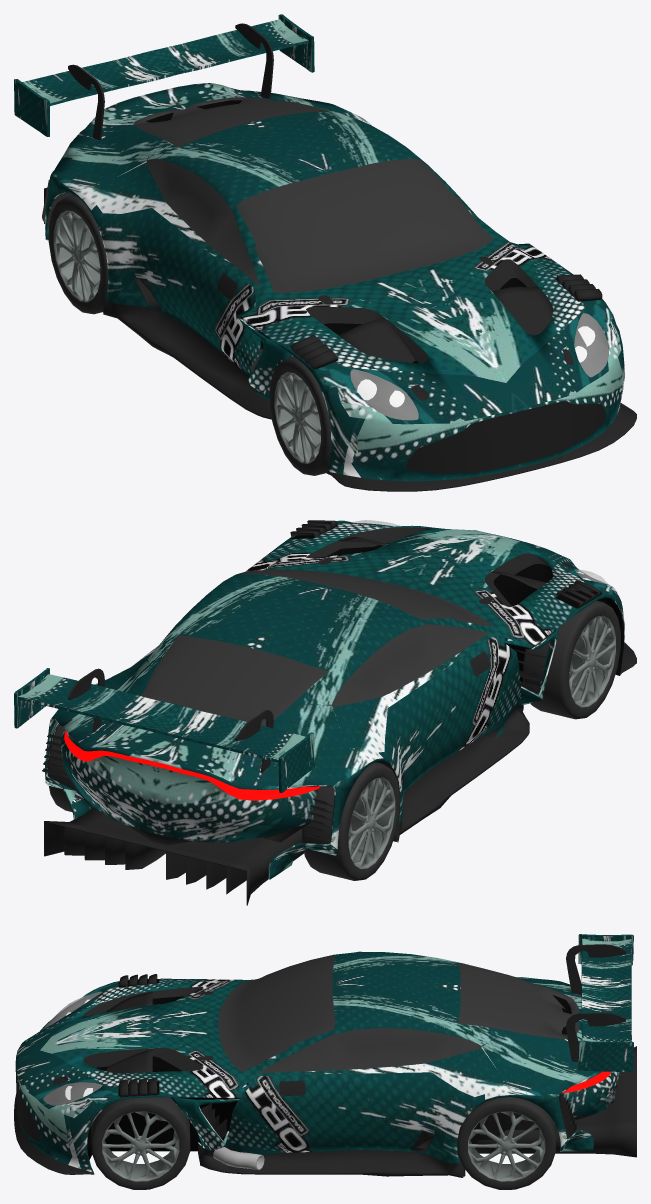
File: aston_martin_retopologi.glb
3 renders of one model, top to bottom at view 1: azimuth 30°, elevation 25°; view 2: azimuth 150°, elevation 25°; view 3: azimuth 270°, elevation 25°, orthographic. The views are drawn at different scales.
Visible parts, largest first — view 1: carroceria, ruedas delanteras.001, ruedas traceras.001; view 2: carroceria, ruedas delanteras.001, ruedas traceras.001, ruedas traceras; view 3: carroceria, ruedas delanteras, ruedas traceras.
Boxes of the visible parts, left/top/right/bottom form: carroceria: left=14, top=14, right=636, bottom=491; ruedas delanteras.001: left=269, top=357, right=330, bottom=475; ruedas traceras.001: left=48, top=195, right=107, bottom=314; carroceria: left=14, top=520, right=636, bottom=905; ruedas delanteras.001: left=523, top=600, right=620, bottom=719; ruedas traceras.001: left=302, top=762, right=399, bottom=880; ruedas traceras: left=47, top=723, right=93, bottom=812; carroceria: left=14, top=934, right=636, bottom=1177; ruedas delanteras: left=91, top=1097, right=190, bottom=1189; ruedas traceras: left=457, top=1097, right=555, bottom=1189.
Size of the model in its own units: 2.15 by 1.27 by 4.7.
13 materials, 1 textured.
